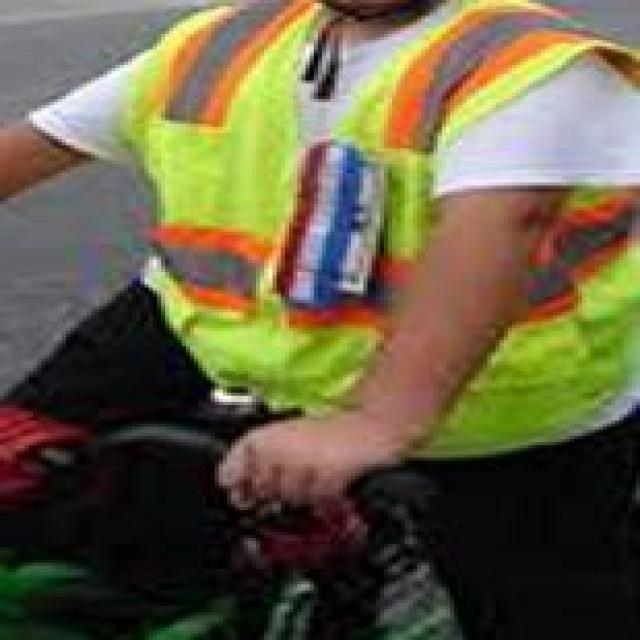Vest: (159, 4, 628, 456)
